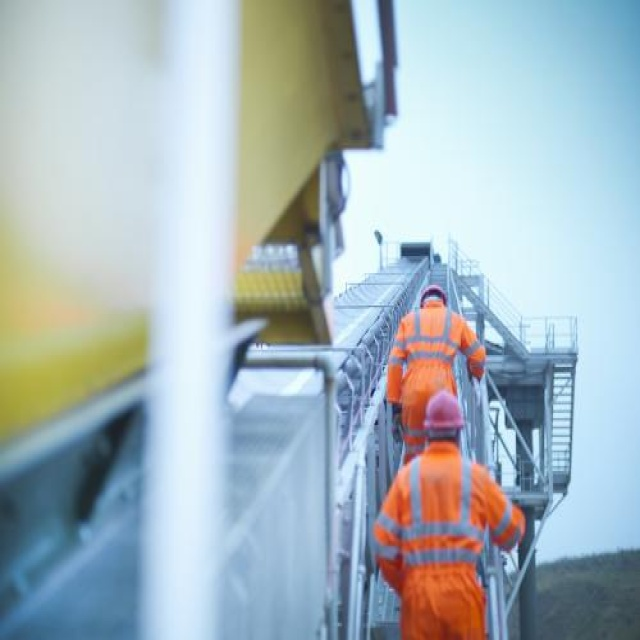Helmet: (412, 385, 472, 461), (416, 279, 448, 310)
Reflective vest: (369, 446, 529, 640), (381, 306, 491, 410)
